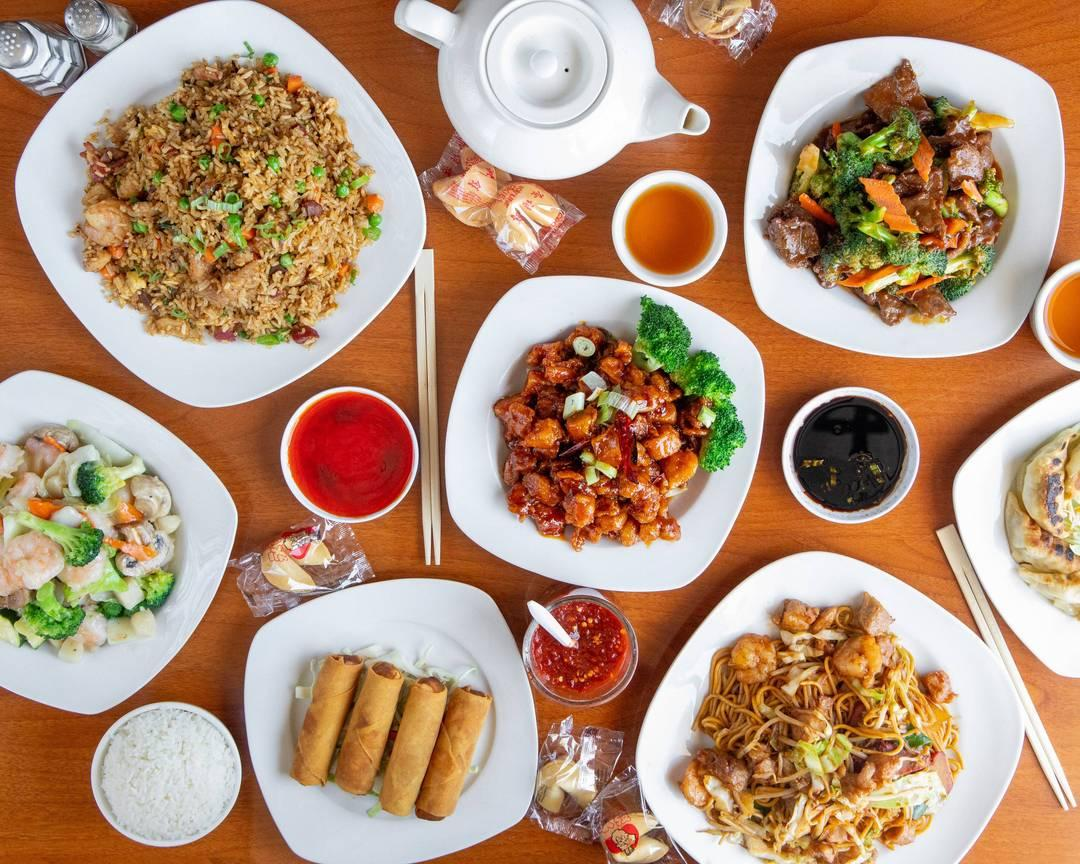Braised Crucian Carp: (13, 2, 423, 401), (635, 557, 1019, 860), (743, 37, 1061, 357), (443, 275, 742, 585), (242, 575, 526, 860), (2, 371, 237, 712)
